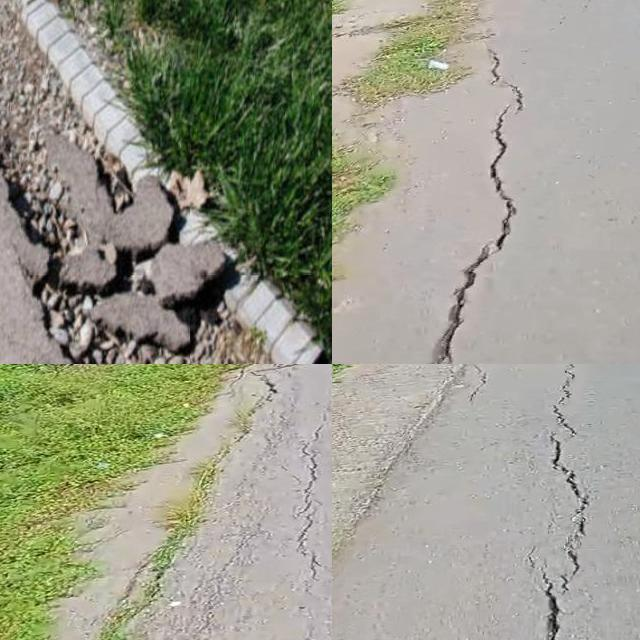Memanjang: (417, 31, 538, 364), (525, 364, 598, 640), (292, 391, 332, 640)
Pinggir: (0, 0, 332, 364)
